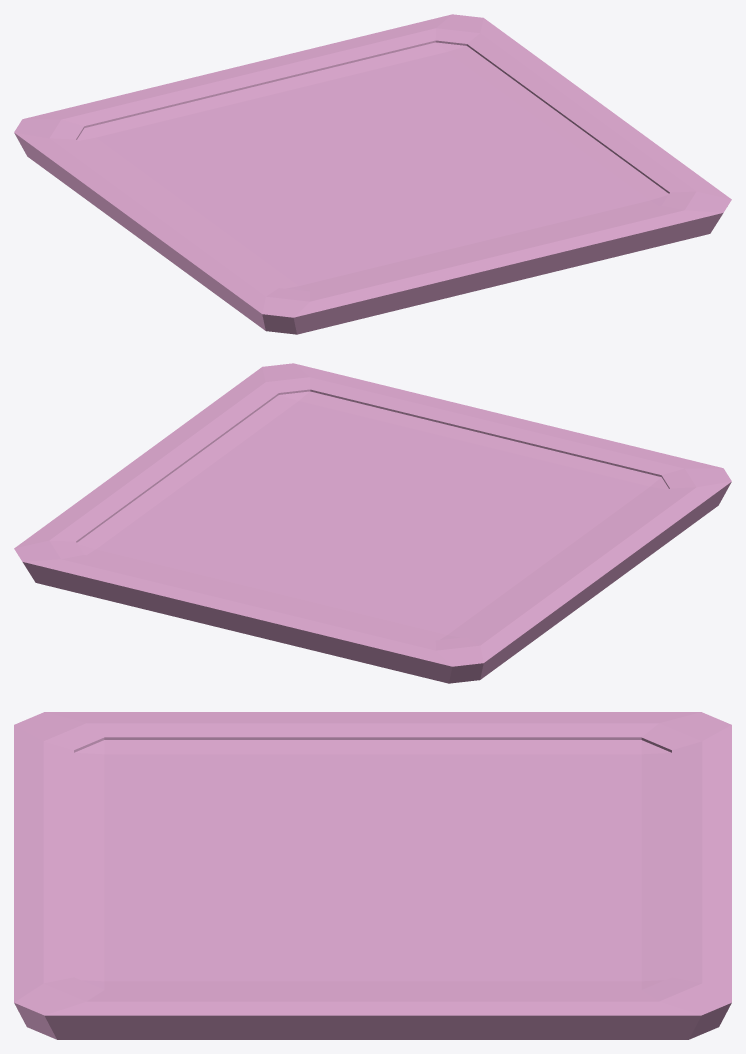
The model's file is Plate1.fbx.
The picture shows the model from 3 angles, top to bottom: view 1: azimuth 30°, elevation 25°; view 2: azimuth 150°, elevation 25°; view 3: azimuth 270°, elevation 25°; orthographic projection. The views are drawn at different scales.
Visible parts, largest first — view 1: Plate2; view 2: Plate2; view 3: Plate2.
Part boxes in pixels (x1,y1,x2,y2): Plate2: (14, 14, 731, 334); Plate2: (14, 363, 731, 683); Plate2: (14, 712, 731, 1039).
Bounding box in the file's own units: 76.42 × 3.84 × 76.42.
